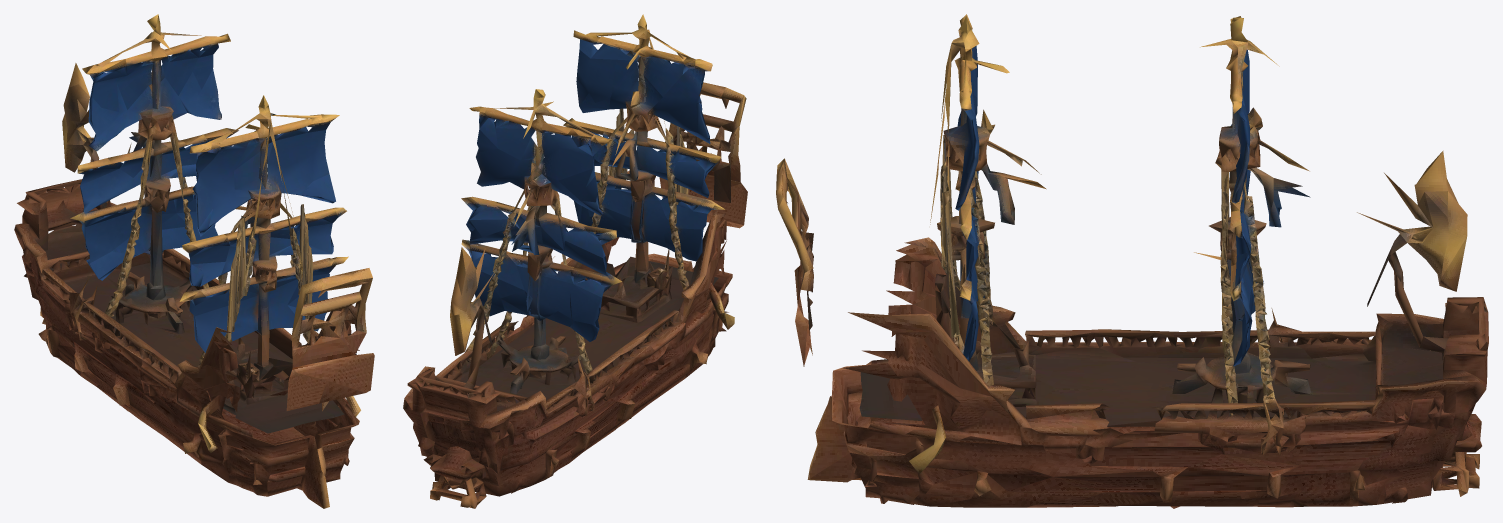
Rendered from galleon.glb.
The picture shows the model from 3 angles, left to right: view 1: azimuth 30°, elevation 25°; view 2: azimuth 150°, elevation 25°; view 3: azimuth 270°, elevation 25°; orthographic projection. The views are drawn at different scales.
Parts seen in each view (by area): view 1: galleon-hull, galleon-rig; view 2: galleon-hull, galleon-rig; view 3: galleon-hull, galleon-rig.
Boxes of the visible parts, x1=… form: galleon-hull: x1=14, y1=154, x2=374, y2=508; galleon-rig: x1=62, y1=14, x2=372, y2=350; galleon-hull: x1=403, y1=164, x2=747, y2=508; galleon-rig: x1=450, y1=14, x2=746, y2=350; galleon-hull: x1=794, y1=217, x2=1488, y2=508; galleon-rig: x1=776, y1=14, x2=1467, y2=324.
Size of the model in its own units: 10.53 by 21.78 by 30.
1 material, 1 textured.
